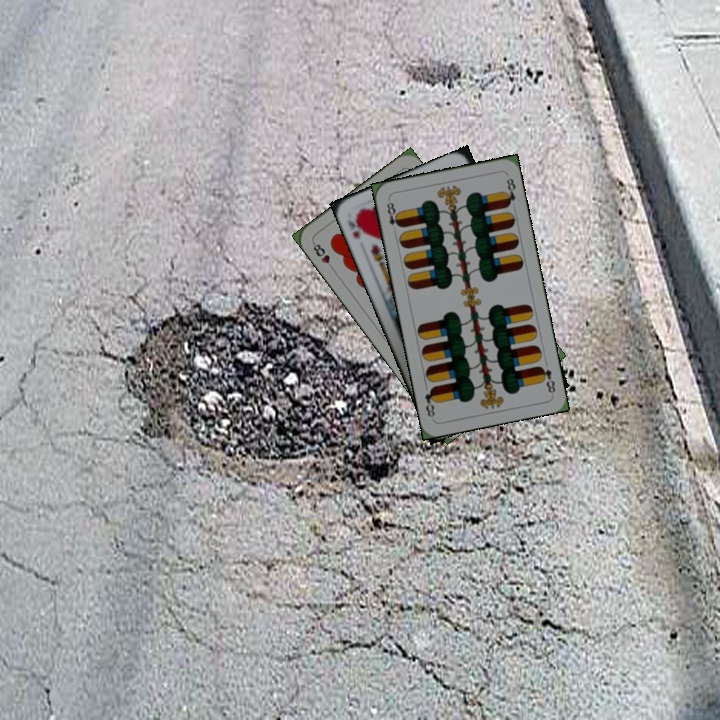E8: (535, 362, 558, 396), (383, 196, 403, 230)
H8: (309, 238, 337, 273)
HK: (343, 210, 367, 241)
